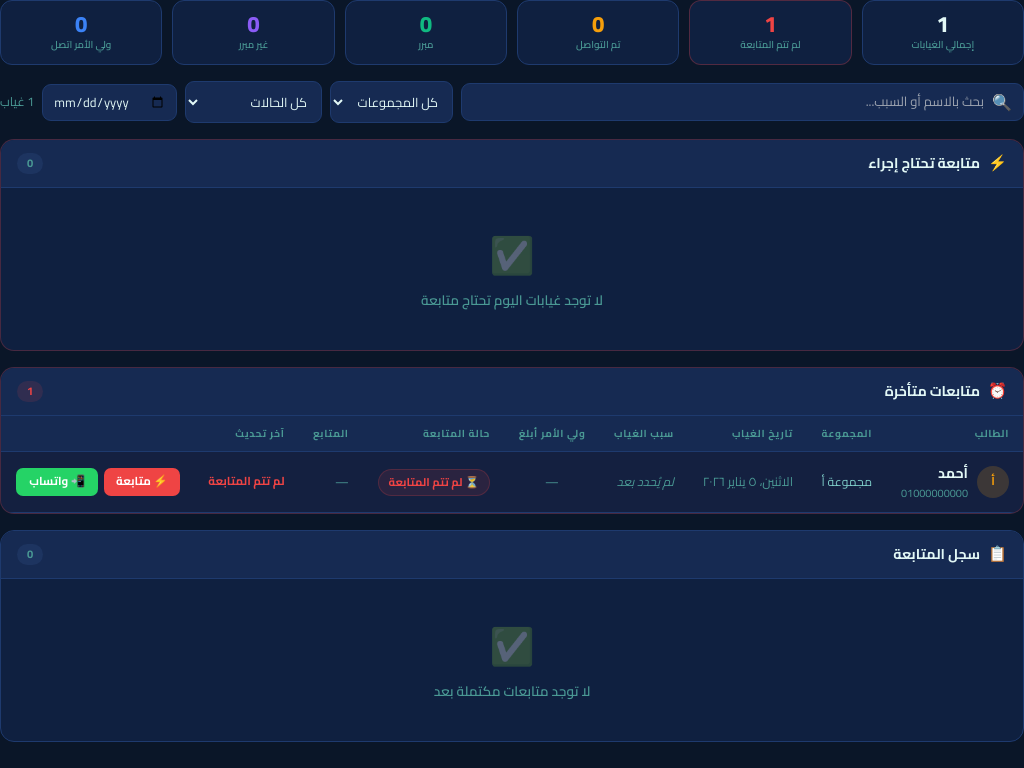
Scenario: AbsenceFollowup — WhatsApp action (V1) › does not affect the existing follow-up action — its button still opens the follow-up modal
What coordinates should you click on to do the following:
click the button "⚡ متابعة"
I would click on:
 (142, 482)
Its box is x1=104 y1=468 x2=180 y2=496.
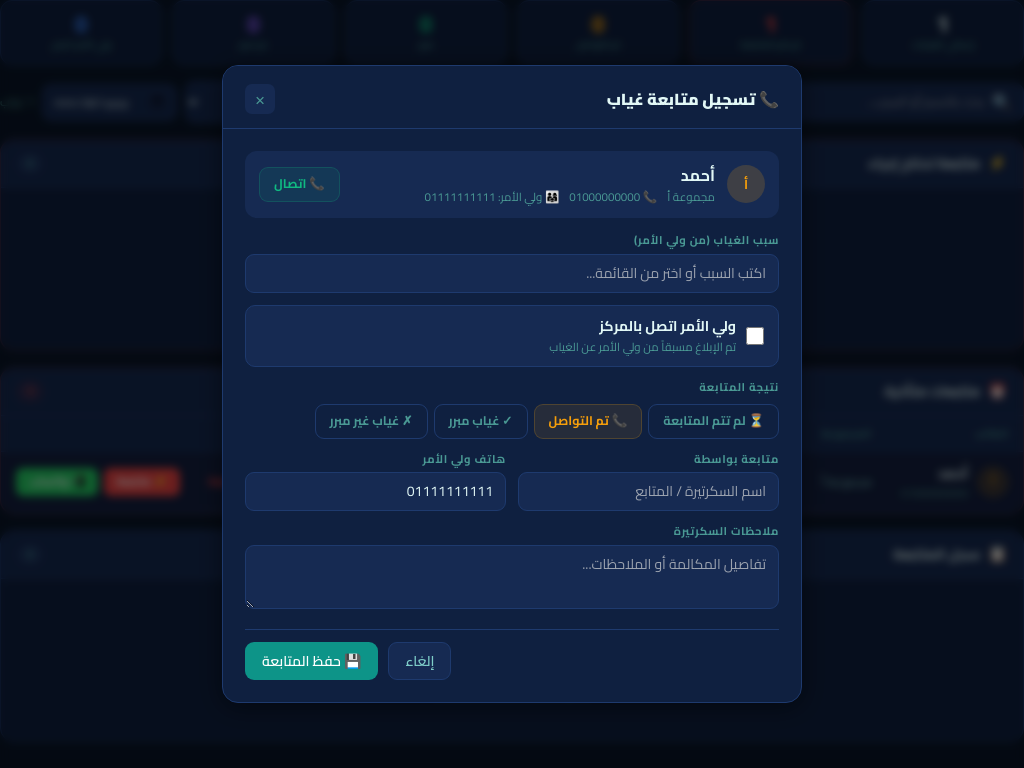
Now the text "📞 تسجيل متابعة غياب" is shown, box x1=607 y1=87 x2=779 y2=111
